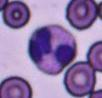N: (28, 24, 77, 75)
